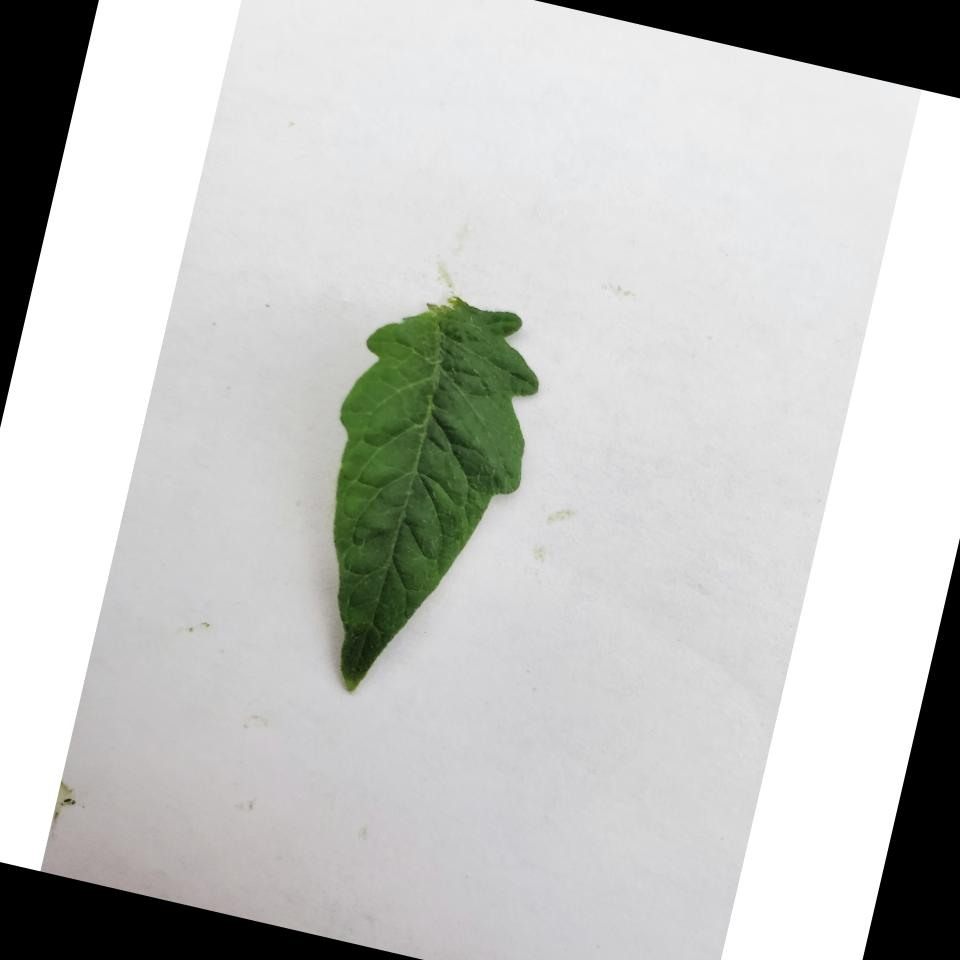tomato_leaves: (281, 272, 564, 718)
